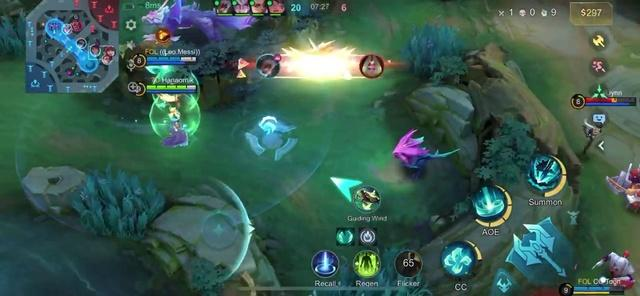Arbusto: (70, 165, 163, 239), (401, 24, 464, 75)
Buff_blue: (143, 0, 255, 39)
Esbirro_Enemigo: (605, 163, 639, 211), (595, 251, 634, 277)
Esbirro_Jungla: (392, 128, 458, 169)
HP_Aliado: (148, 57, 196, 62)
HP_Enemigo: (586, 98, 636, 103)
HP_Heroe_Principal: (147, 84, 197, 89)
Mana: (146, 90, 196, 93), (587, 103, 637, 106), (148, 62, 197, 65)
Matilda: (153, 75, 200, 110)
Skill1: (441, 241, 477, 276)
Skill2: (472, 186, 504, 217)
Skill3: (526, 155, 566, 196)
Vexana: (161, 104, 188, 146)
Wanwan: (583, 120, 603, 152)
